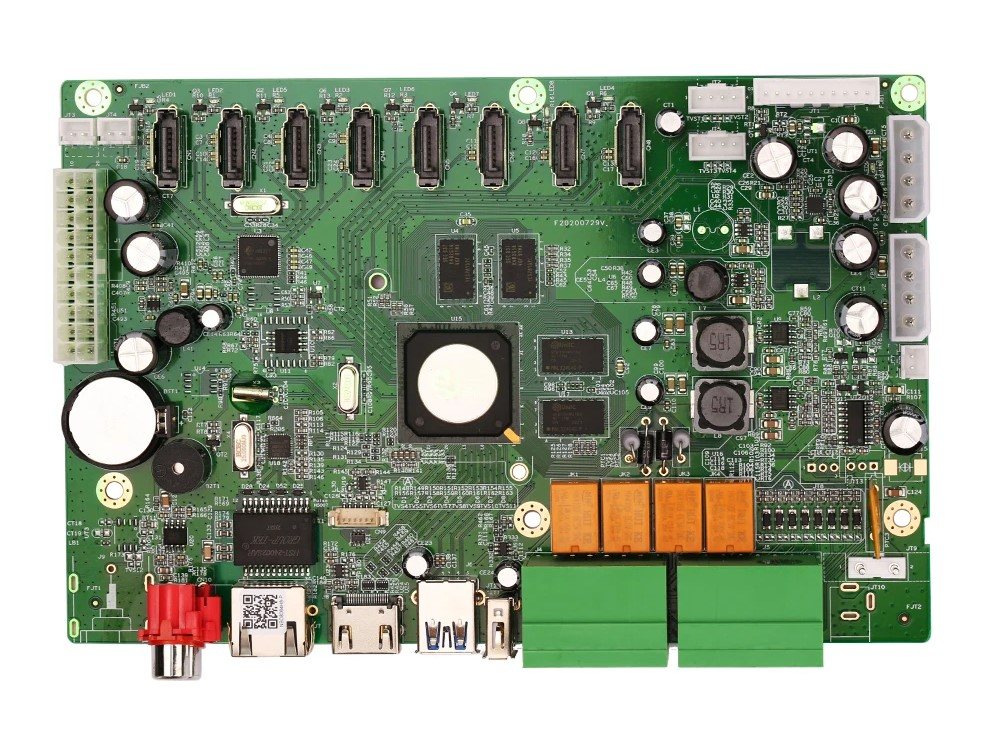Induktor: (692, 375, 749, 434), (693, 313, 750, 370)
